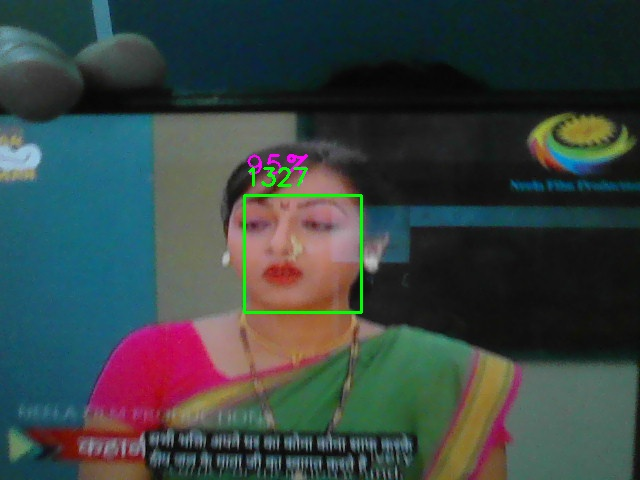fake: (244, 195, 362, 313)
